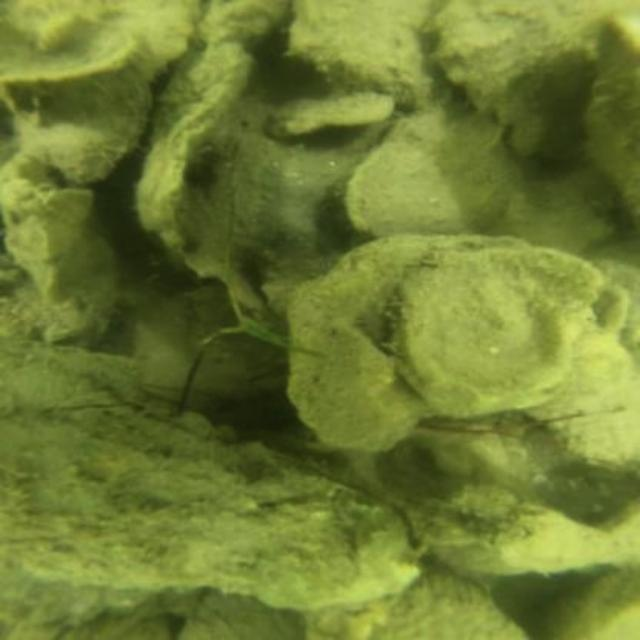Oyster-Closed: (0, 402, 431, 600), (290, 233, 464, 455), (12, 0, 205, 184), (432, 3, 592, 154), (140, 40, 253, 240), (2, 168, 118, 336), (290, 10, 428, 109), (348, 117, 464, 234), (585, 24, 636, 225), (381, 571, 528, 636), (189, 331, 291, 422), (202, 1, 279, 47)
Oyster-Open: (396, 237, 631, 413)
